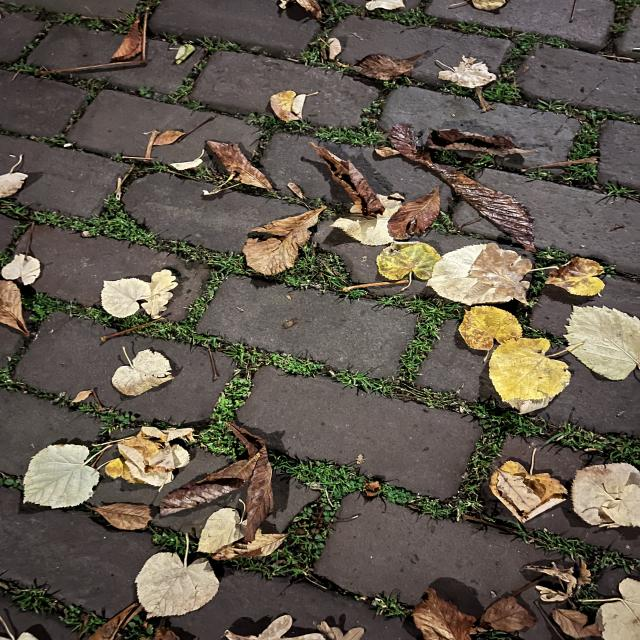weedling: (0, 193, 635, 613)
